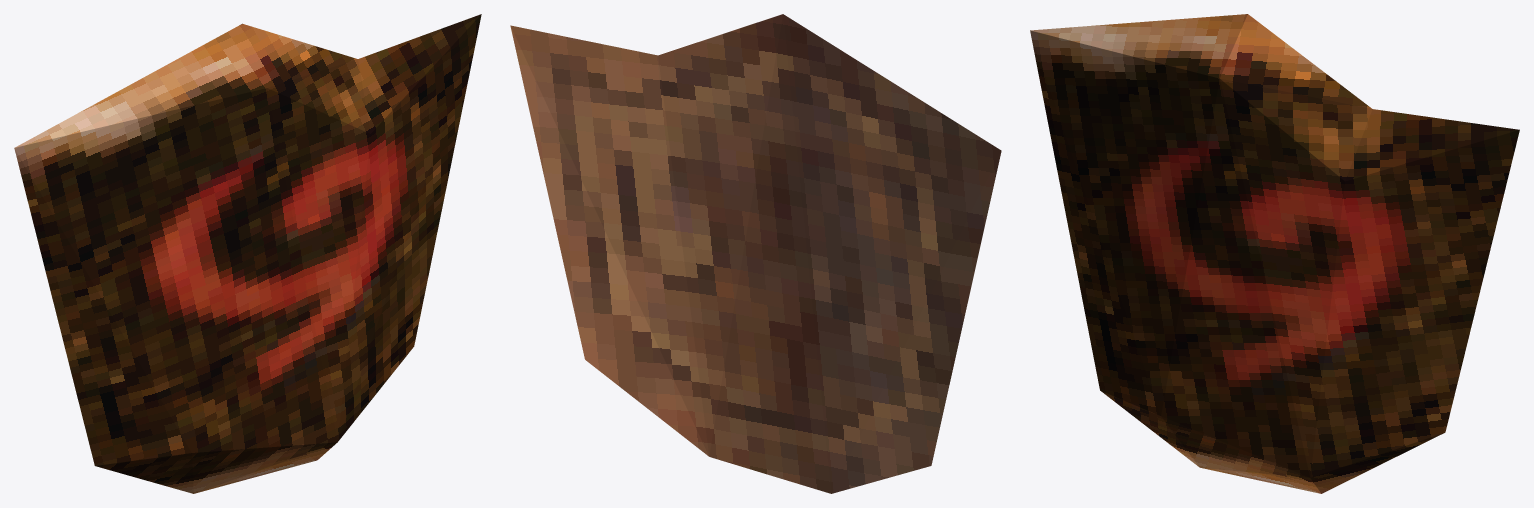
Rendered from Deku Shield (Hi-Poly).fbx.
The picture shows the model from 3 angles, left to right: view 1: azimuth 30°, elevation 25°; view 2: azimuth 150°, elevation 25°; view 3: azimuth 330°, elevation 25°; orthographic projection.
Parts seen in each view (by area): view 1: default; view 2: default; view 3: default.
Part boxes in pixels (x1=…): default: x1=14, y1=14, x2=481, y2=493; default: x1=510, y1=14, x2=1001, y2=493; default: x1=1030, y1=14, x2=1519, y2=493.
Bounding box in the file's own units: 1.36 × 1.26 × 0.2014.
